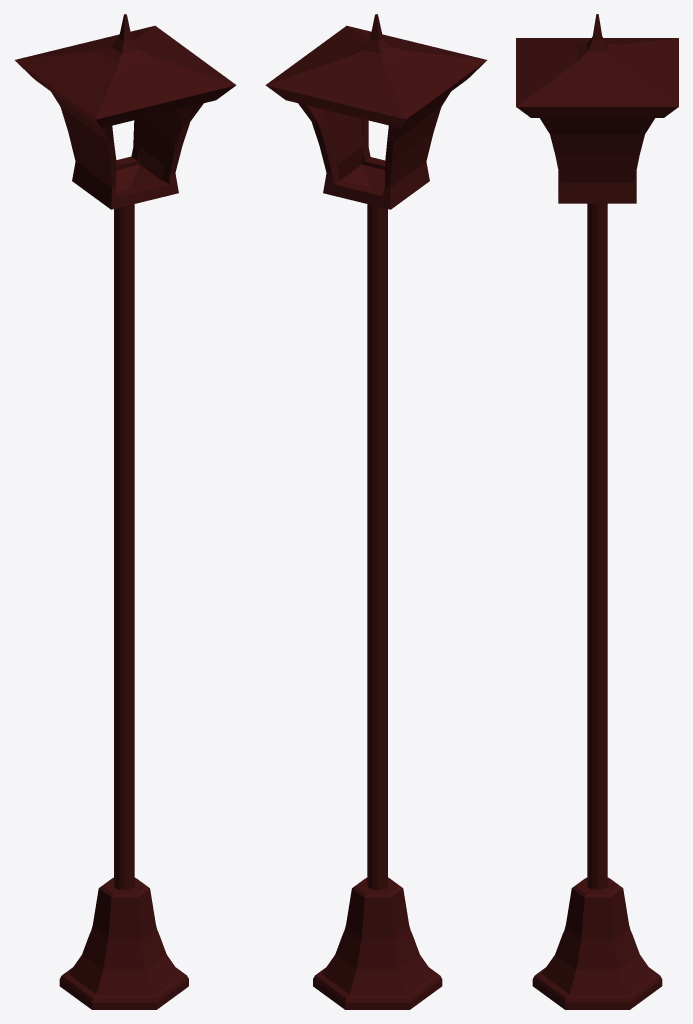
File: Lamp.fbx
The picture shows the model from 3 angles, left to right: view 1: azimuth 30°, elevation 25°; view 2: azimuth 150°, elevation 25°; view 3: azimuth 270°, elevation 25°; orthographic projection.
Visible parts, largest first — view 1: Cylinder; view 2: Cylinder; view 3: Cylinder.
Part boxes in pixels (left/top/right/bottom): Cylinder: left=14, top=14, right=236, bottom=1009; Cylinder: left=265, top=14, right=487, bottom=1009; Cylinder: left=516, top=14, right=678, bottom=1009.
Bounding box in the file's own units: 147 × 969 × 147.
